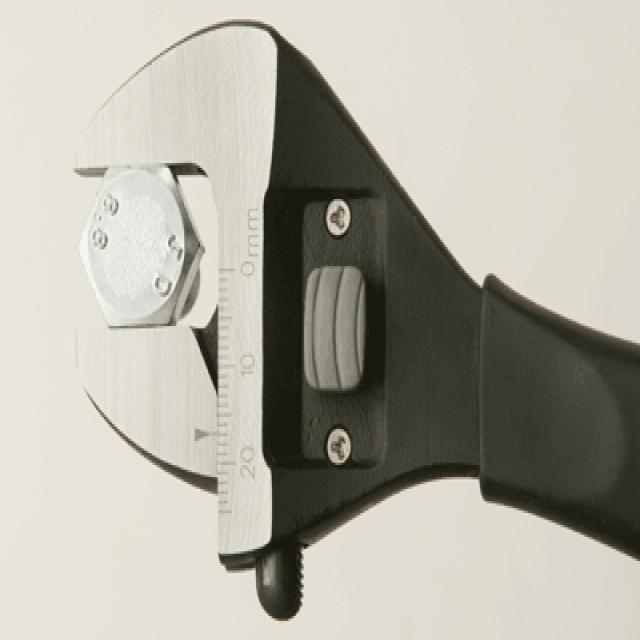wrench: (63, 12, 640, 614)
